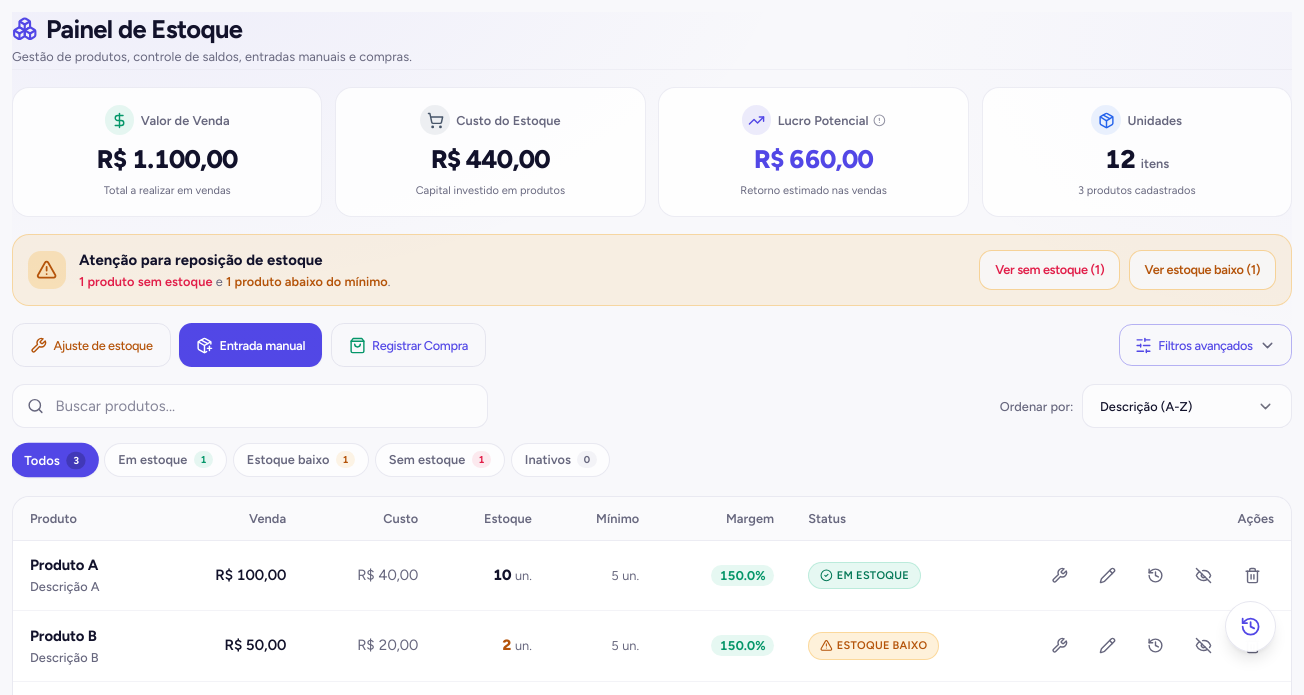
Test: StockManager — Painel de Estoque › alterna para movimentações ao clicar no botão flutuante e volta para o estoque
Later steps or results of the test are not shown.
Click the button named "Movimentações".
click(1250, 626)  # box [1225,601,1276,652]
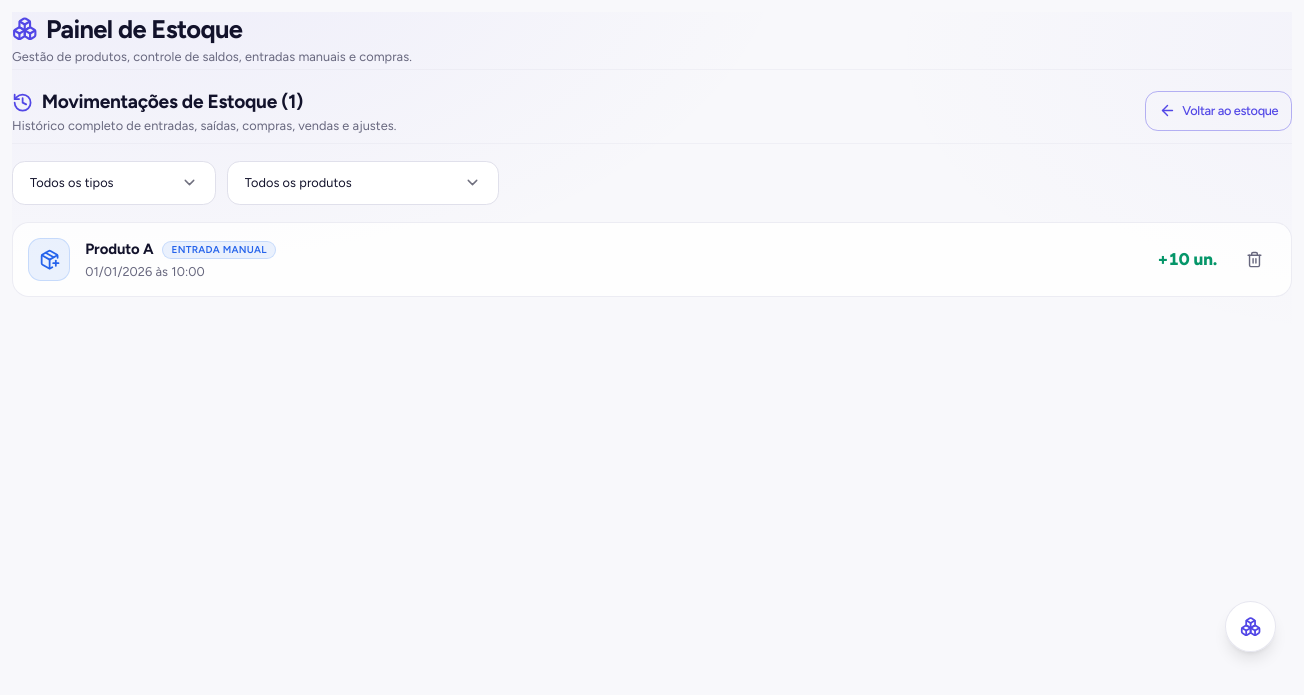
Check: the heading "Movimentações de Estoque (1)" is shown, box [12,90,303,113]
Check: the button "Voltar ao estoque" is shown, box [1145,91,1292,131]
